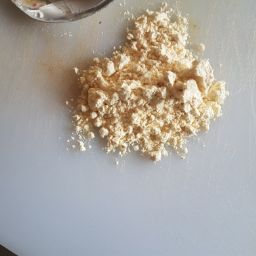Gram/ Flour: (42, 50, 217, 166), (102, 2, 232, 149), (93, 24, 243, 125)
